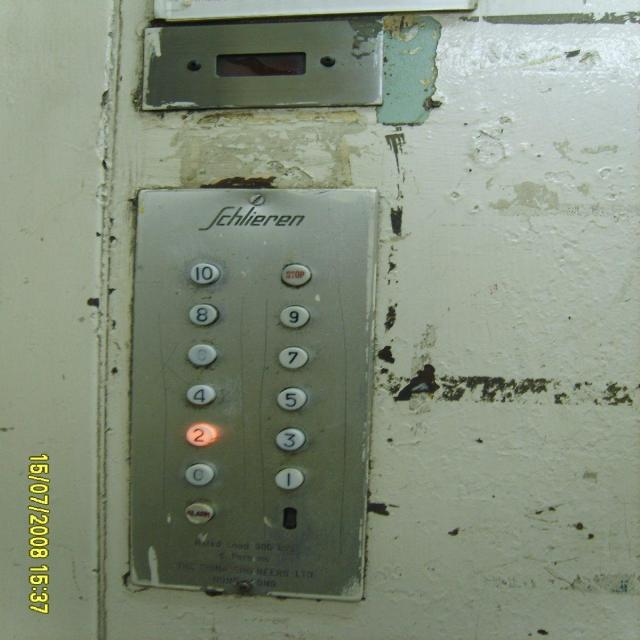0: (180, 459, 218, 490)
1: (269, 464, 307, 494)
10: (184, 258, 223, 289)
2: (181, 420, 220, 450)
3: (270, 425, 309, 456)
4: (182, 381, 220, 412)
5: (272, 384, 310, 414)
6: (183, 340, 221, 370)
7: (274, 342, 312, 373)
8: (184, 300, 222, 330)
9: (275, 302, 314, 332)
text: (180, 498, 219, 530), (276, 258, 314, 290)
